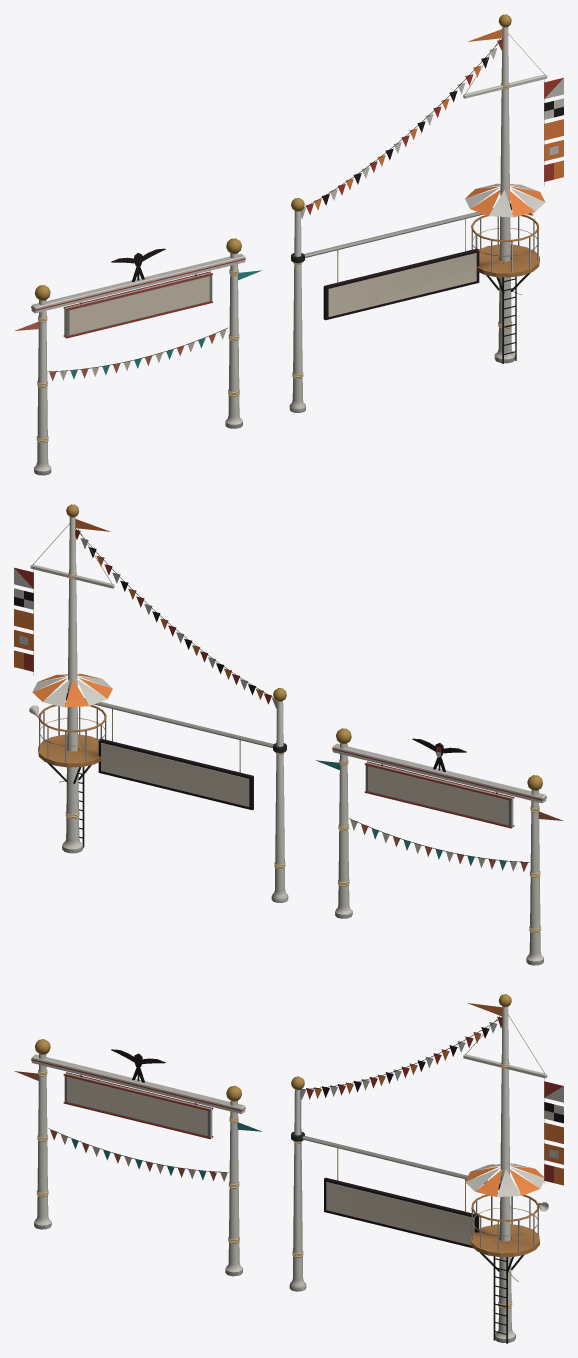
The model's file is pav_swallow_gate.glb.
3 views of the same model, one above another, from view 1: azimuth 30°, elevation 25°; view 2: azimuth 150°, elevation 25°; view 3: azimuth 330°, elevation 25° (orthographic).
Visible parts, largest first — view 1: static_swallow_gate, live_swallow_gate_signal_flags; view 2: static_swallow_gate, live_swallow_gate_signal_flags; view 3: static_swallow_gate, live_swallow_gate_signal_flags.
Boxes of the visible parts, x1,y1,x2,y2 form: static_swallow_gate: [31, 14, 547, 475]; live_swallow_gate_signal_flags: [544, 77, 563, 185]; static_swallow_gate: [29, 504, 546, 965]; live_swallow_gate_signal_flags: [14, 567, 33, 675]; static_swallow_gate: [31, 994, 548, 1343]; live_swallow_gate_signal_flags: [544, 1078, 563, 1185].
Bounding box in the file's own units: 17.24 × 10.31 × 2.09.
